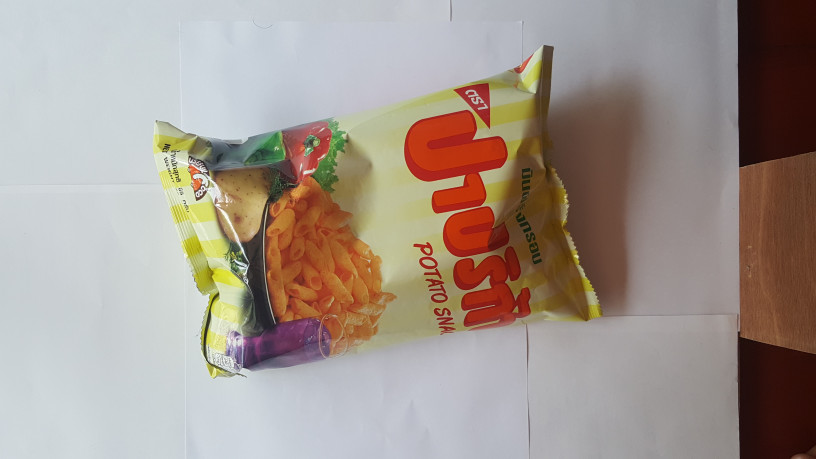paprika: (145, 54, 624, 381)
